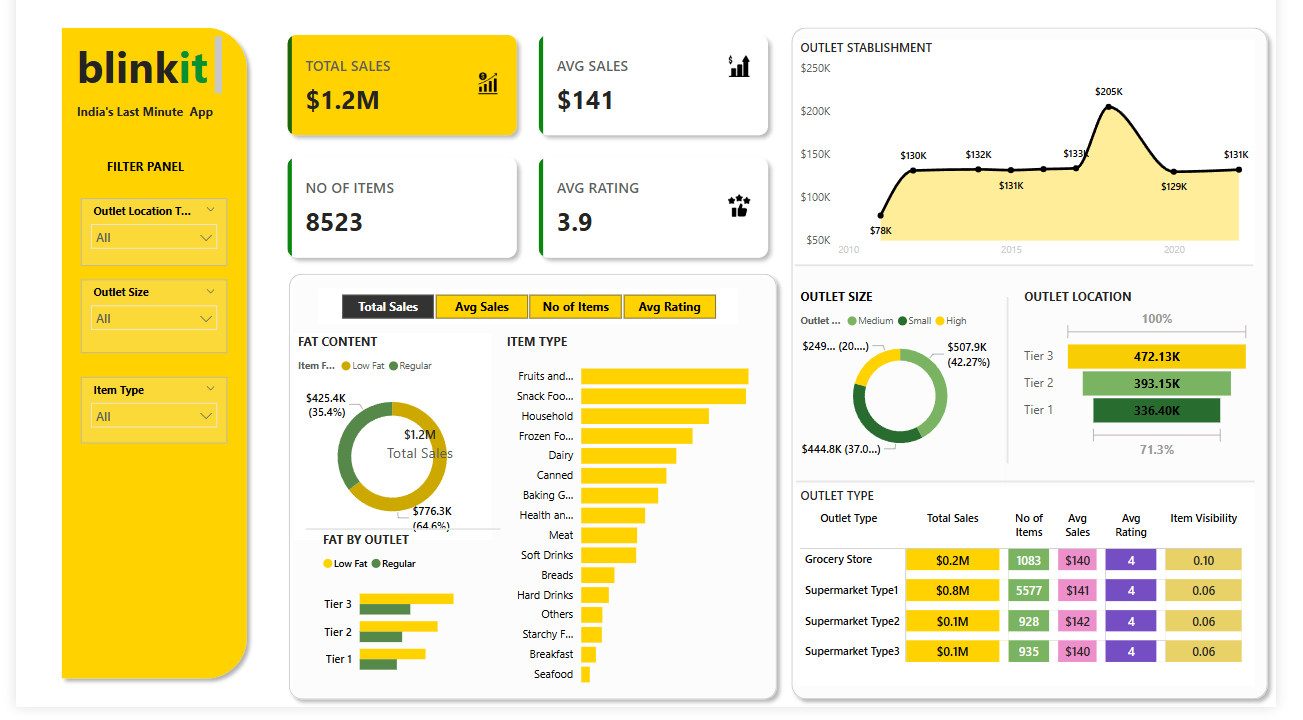

The page's visual inventory and layout, read from the dashboard file:
{"tool":"powerbi","page":{"name":"Page 1","canvas":[1400,800],"ordinal":0},"visuals":[{"type":"shape","box":[41.6,36.2,223.9,741.3],"z":0},{"type":"textbox","box":[63,123.1,171.1,31.5],"z":1000},{"type":"textbox","box":[63,49.5,171.1,73.5],"z":2000},{"type":"cardVisual","fields":{"Data":["BlinkIT Grocery Data.Total Sales","BlinkIT Grocery Data.Avg Sales","BlinkIT Grocery Data.No of Items","BlinkIT Grocery Data.Avg Rating"]},"box":[284.2,36.2,569.7,282.8],"z":3000},{"type":"shape","box":[294.2,309.2,559.8,490.8],"z":4000},{"type":"donutChart","title":"FAT CONTENT","fields":{"Y":["BlinkIT Grocery Data.Total Sales"],"Category":["BlinkIT Grocery Data.Item Fat Content"]},"box":[308.3,384.7,219.8,229.2],"z":5000},{"type":"slicer","fields":{"Values":["Metrics.Metrics"]},"box":[336.2,334.7,465.3,40.5],"z":6000},{"type":"cardVisual","fields":{"Data":["BlinkIT Grocery Data.Total Sales"]},"box":[390.2,471.3,117.1,70.5],"z":7000},{"type":"clusteredBarChart","title":"FAT BY OUTLET","fields":{"Y":["BlinkIT Grocery Data.Total Sales"],"Category":["BlinkIT Grocery Data.Outlet Location Type"],"Series":["BlinkIT Grocery Data.Item Fat Content"]},"box":[336.2,604.8,192.1,172.6],"z":8000},{"type":"shape","box":[883.4,502.7,493.3,91.2],"z":9000},{"type":"shape","box":[1087.1,351.2,24.1,384.7],"z":10000},{"type":"barChart","title":"ITEM TYPE","fields":{"Y":["BlinkIT Grocery Data.Total Sales"],"Category":["BlinkIT Grocery Data.Item Type"]},"box":[540.2,384.7,301.6,402.1],"z":11000},{"type":"shape","box":[852.6,36.2,546.9,764.1],"z":12000},{"type":"lineChart","title":"OUTLET STABLISHMENT","fields":{"Y":["BlinkIT Grocery Data.Total Sales"],"Category":["BlinkIT Grocery Data.Outlet Establishment Year"]},"box":[867.3,59,509.4,250.7],"z":13000},{"type":"donutChart","title":"OUTLET SIZE","fields":{"Y":["BlinkIT Grocery Data.Total Sales"],"Category":["BlinkIT Grocery Data.Outlet Size"]},"box":[867.3,335.1,231.9,194.4],"z":14000},{"type":"funnel","title":"OUTLET LOCATION","fields":{"Category":["BlinkIT Grocery Data.Outlet Location Type"],"Y":["Sum(BlinkIT Grocery Data.Sales)"]},"box":[1115.3,335.1,261.4,194.4],"z":16000},{"type":"shape","box":[1073.7,344.5,56.3,185],"z":16001},{"type":"shape","box":[322.2,590.8,216.1,24],"z":16002},{"type":"shape","box":[867.3,534.9,509.4,29.5],"z":16003},{"type":"pivotTable","title":"OUTLET TYPE","fields":{"Values":["BlinkIT Grocery Data.Total Sales","BlinkIT Grocery Data.No of Items","BlinkIT Grocery Data.Avg Sales","BlinkIT Grocery Data.Avg Rating","Avg(BlinkIT Grocery Data.Item Visibility)"],"Rows":["BlinkIT Grocery Data.Outlet Type"]},"box":[867.3,555,509.4,221.2],"z":16004},{"type":"shape","box":[864.6,294.9,509.4,29.5],"z":16005},{"type":"slicer","fields":{"Values":["BlinkIT Grocery Data.Outlet Location Type"]},"box":[72.4,234.6,162.2,75.1],"z":16006},{"type":"slicer","fields":{"Values":["BlinkIT Grocery Data.Outlet Size"]},"box":[72.4,324.4,162.2,81.8],"z":16007},{"type":"slicer","fields":{"Values":["BlinkIT Grocery Data.Item Type"]},"box":[72.4,433,162.2,73.7],"z":16008},{"type":"textbox","box":[95.2,185,113.9,33.5],"z":16009}]}

Visuals, with their boxes on the page's 1400x800 design canvas (x1, y1, x2, y2). These are canvas units, not pixel positions in the 1303x720 screenshot, which may show the page scaled, cropped or inside an application window:
shape: BBox(42, 36, 266, 778)
textbox: BBox(63, 123, 234, 155)
textbox: BBox(63, 50, 234, 123)
cardVisual - BlinkIT Grocery Data.Total Sales x BlinkIT Grocery Data.Avg Sales: BBox(284, 36, 854, 319)
shape: BBox(294, 309, 854, 800)
"FAT CONTENT" donutChart: BBox(308, 385, 528, 614)
slicer - Metrics.Metrics: BBox(336, 335, 802, 375)
cardVisual - BlinkIT Grocery Data.Total Sales: BBox(390, 471, 507, 542)
"FAT BY OUTLET" clusteredBarChart: BBox(336, 605, 528, 777)
shape: BBox(883, 503, 1377, 594)
shape: BBox(1087, 351, 1111, 736)
"ITEM TYPE" barChart: BBox(540, 385, 842, 787)
shape: BBox(853, 36, 1400, 800)
"OUTLET STABLISHMENT" lineChart: BBox(867, 59, 1377, 310)
"OUTLET SIZE" donutChart: BBox(867, 335, 1099, 530)
"OUTLET LOCATION" funnel: BBox(1115, 335, 1377, 530)
shape: BBox(1074, 344, 1130, 530)
shape: BBox(322, 591, 538, 615)
shape: BBox(867, 535, 1377, 564)
"OUTLET TYPE" pivotTable: BBox(867, 555, 1377, 776)
shape: BBox(865, 295, 1374, 324)
slicer - BlinkIT Grocery Data.Outlet Location Type: BBox(72, 235, 235, 310)
slicer - BlinkIT Grocery Data.Outlet Size: BBox(72, 324, 235, 406)
slicer - BlinkIT Grocery Data.Item Type: BBox(72, 433, 235, 507)
textbox: BBox(95, 185, 209, 218)
